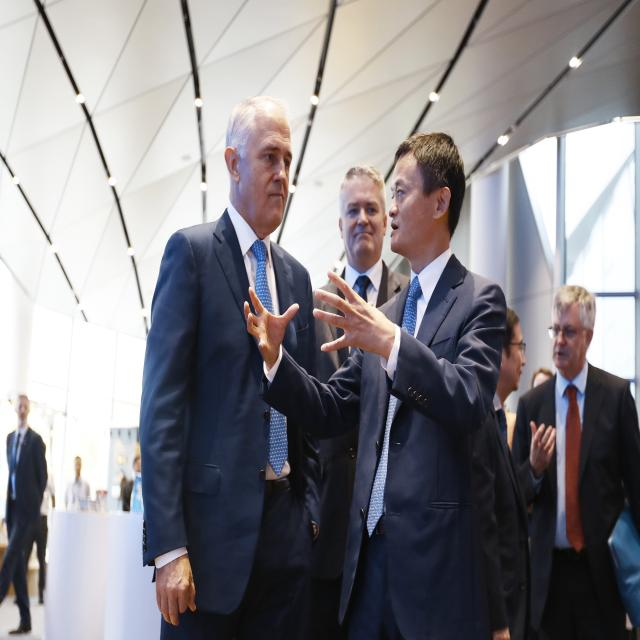body: (239, 121, 511, 640), (129, 89, 333, 640), (510, 283, 640, 640), (313, 163, 411, 383), (472, 303, 534, 640), (0, 390, 51, 640), (14, 470, 56, 606), (63, 456, 91, 513), (122, 447, 144, 512), (530, 357, 554, 395)
